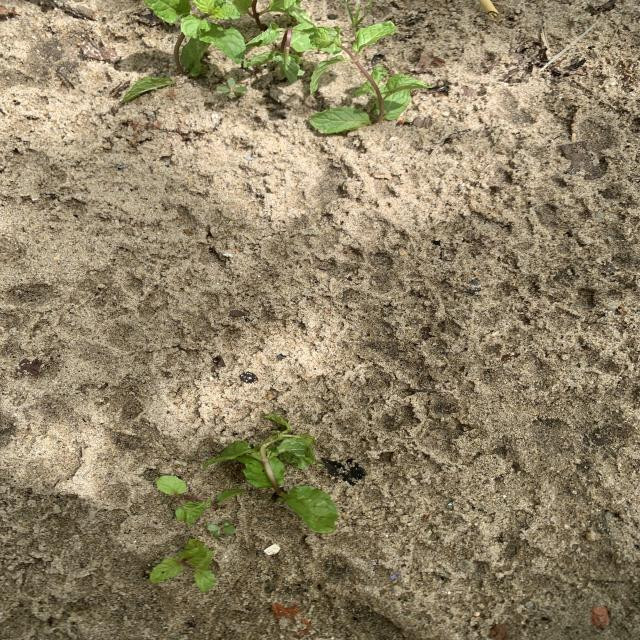crop: (203, 414, 338, 533), (119, 0, 251, 105), (309, 21, 427, 134), (156, 475, 247, 525), (243, 23, 314, 82), (149, 539, 215, 592), (247, 0, 301, 29)
weed: (217, 78, 247, 99), (205, 522, 235, 538)
